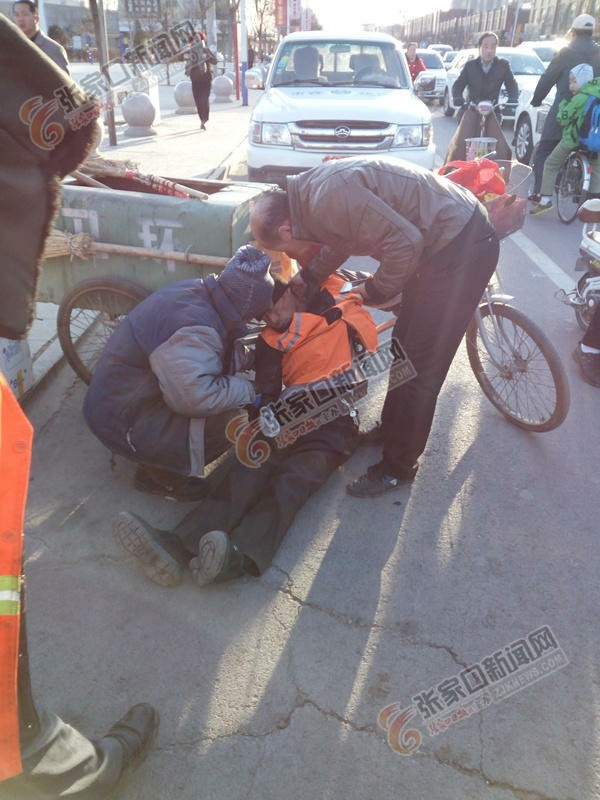falling: (86, 285, 386, 592)
